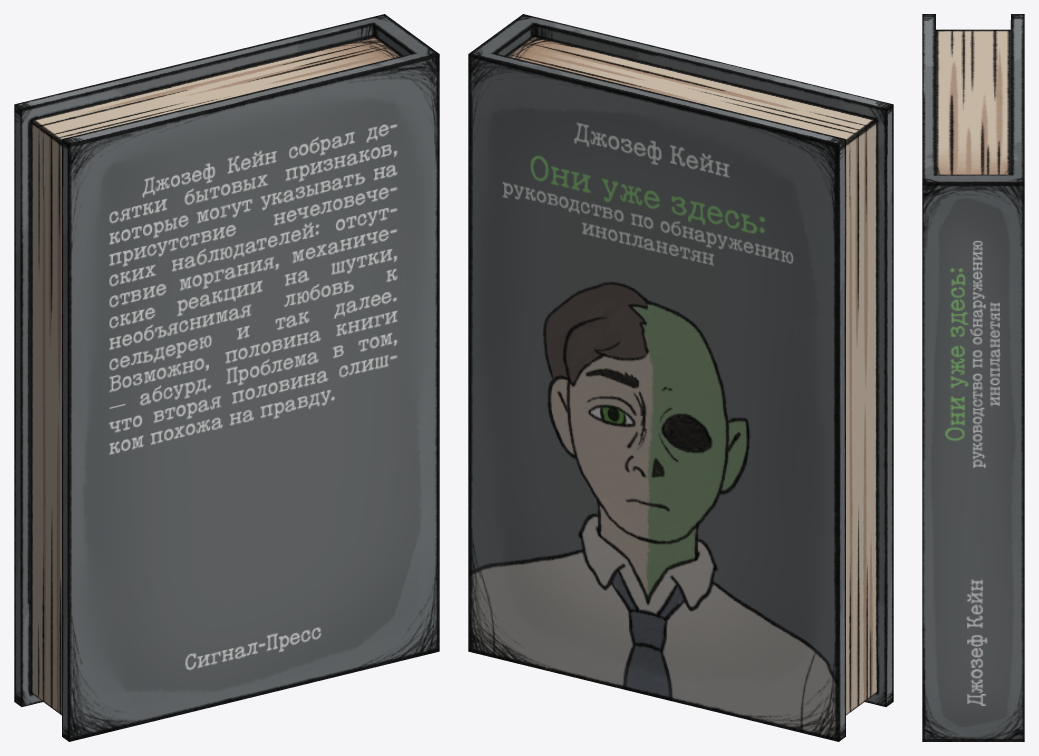
The model's file is book_3.fbx.
3 views of the same model, side by side, from view 1: azimuth 30°, elevation 25°; view 2: azimuth 150°, elevation 25°; view 3: azimuth 270°, elevation 25° (orthographic). The views are drawn at different scales.
Visible parts, largest first — view 1: book_1; view 2: book_1; view 3: book_1.
Part boxes in pixels (x1,y1,x2,y2): book_1: (14,14,439,741); book_1: (468,14,893,741); book_1: (922,14,1024,741).
Bounding box in the file's own units: 29.92 × 46.11 × 7.66.
Materials: 1 (1 with a texture image).
